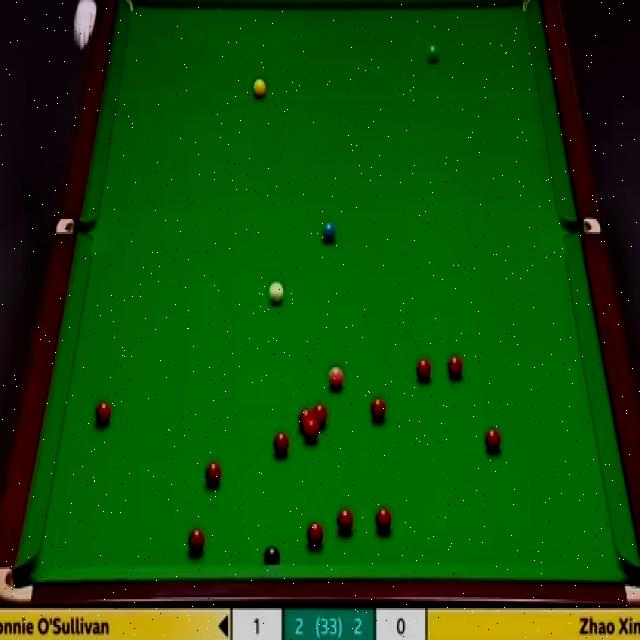black-ball: (263, 546, 280, 563)
blue-ball: (321, 220, 335, 243)
green-ball: (427, 40, 439, 61)
pink-ball: (326, 364, 345, 388)
red-ball: (483, 427, 503, 455), (203, 460, 223, 487), (272, 429, 290, 458), (187, 526, 206, 553), (336, 508, 354, 536), (303, 417, 320, 446), (306, 520, 324, 547), (310, 402, 328, 427), (447, 352, 462, 380), (94, 402, 112, 425), (375, 508, 392, 531), (299, 408, 314, 433), (371, 396, 386, 421), (416, 358, 432, 381)
white-ball: (268, 278, 285, 307)
yellow-ball: (250, 78, 267, 99)
